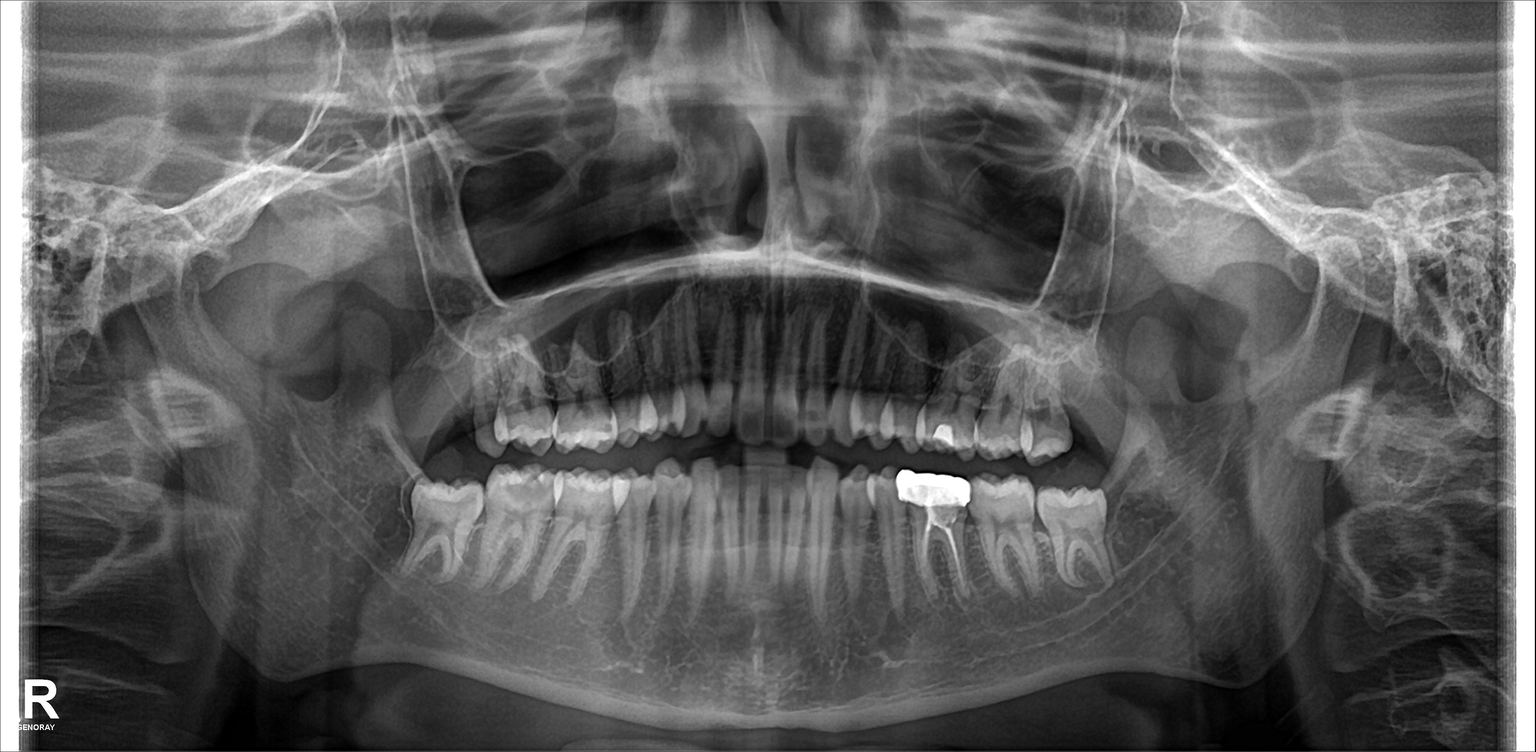Dental Caries: (501, 478, 556, 512)
Endodontically Treated Tooth: (899, 473, 967, 611)
Missing Tooth: (432, 361, 492, 451)
